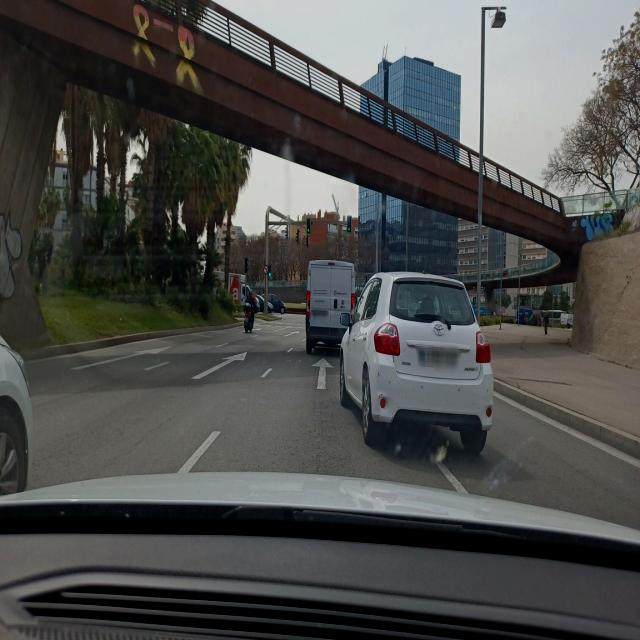bike: (243, 304, 255, 333)
car: (340, 269, 494, 456), (0, 324, 34, 500), (305, 259, 356, 353), (540, 309, 572, 328), (258, 293, 286, 314), (516, 306, 536, 324)
